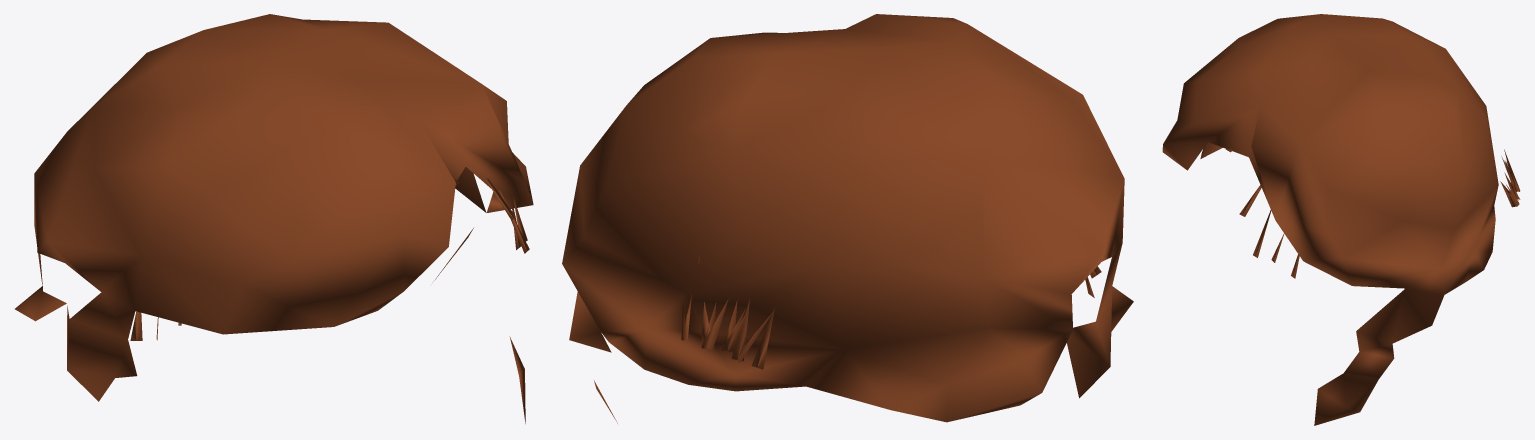
Rendered from braid.glb.
3 views of the same model, side by side, from view 1: azimuth 30°, elevation 25°; view 2: azimuth 150°, elevation 25°; view 3: azimuth 270°, elevation 25° (orthographic). The views are drawn at different scales.
Visible parts, largest first — view 1: Hair, HairPulledRootStrands; view 2: Hair, HairPulledRootStrands; view 3: Hair, HairPulledRootStrands.
Boxes of the visible parts, x1=… form: Hair: x1=15, y1=14, x2=533, y2=423; HairPulledRootStrands: x1=130, y1=178, x2=529, y2=340; Hair: x1=562, y1=14, x2=1133, y2=423; HairPulledRootStrands: x1=681, y1=255, x2=1101, y2=369; Hair: x1=1162, y1=14, x2=1498, y2=425; HairPulledRootStrands: x1=1225, y1=148, x2=1520, y2=278.
Size of the model in its own units: 0.473 by 0.3926 by 0.42.
